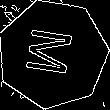M_E: (24, 27, 82, 81)
